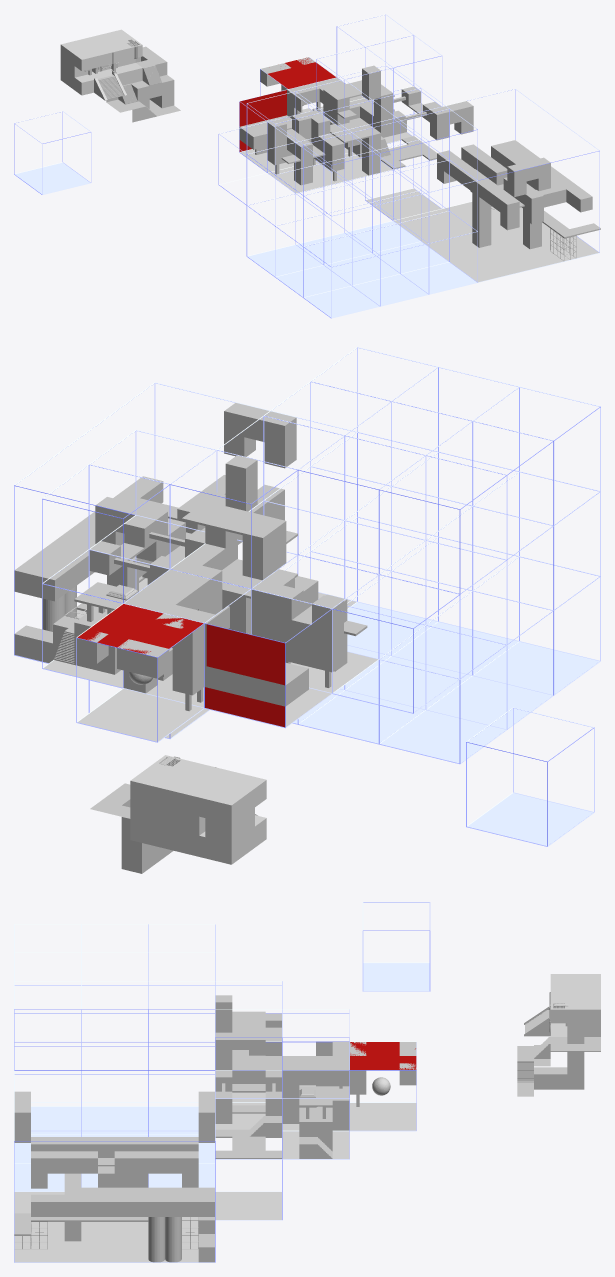
Rendered from Blamelike_Architecture.fbx.
The picture shows the model from 3 angles, top to bottom: view 1: azimuth 30°, elevation 25°; view 2: azimuth 150°, elevation 25°; view 3: azimuth 270°, elevation 25°; orthographic projection. The views are drawn at different scales.
Parts seen in each view (by area): view 1: Plane.064, Cube.002, Cube.253, Plane.060, Plane.061, Plane.057, Plane.058, Plane.055, Plane.059, Plane.053, Plane.054, Plane.056 (+16 smaller); view 2: Cube.002, Plane.046, Plane.060, Plane.061, Plane.057, Plane.052, Plane.054, Plane.055, Plane.058, Plane.049, Plane.062, Cube (+49 smaller); view 3: Plane.064, Cube.254, Cube.253, Plane.057, Plane.061, Plane.063, Plane.049, Plane.062, Cube.002, Plane.054, Plane.060, Cube.016 (+9 smaller).
Boxes of the visible parts, x1=… form: Plane.064: x1=394, y1=202, x2=598, y2=282; Cube.002: x1=60, y1=32, x2=130, y2=71; Cube.253: x1=444, y1=155, x2=519, y2=217; Plane.060: x1=304, y1=286, x2=379, y2=317; Plane.061: x1=15, y1=162, x2=90, y2=194; Plane.057: x1=276, y1=265, x2=351, y2=297; Plane.058: x1=353, y1=274, x2=427, y2=305; Plane.055: x1=325, y1=253, x2=399, y2=285; Plane.059: x1=402, y1=262, x2=476, y2=293; Plane.053: x1=345, y1=221, x2=420, y2=252; Plane.054: x1=248, y1=245, x2=322, y2=276; Plane.056: x1=373, y1=241, x2=448, y2=273; Cube.002: x1=150, y1=760, x2=266, y2=824; Plane.046: x1=205, y1=624, x2=284, y2=727; Plane.060: x1=474, y1=642, x2=599, y2=694; Plane.061: x1=468, y1=793, x2=593, y2=845; Plane.057: x1=427, y1=676, x2=552, y2=728; Plane.052: x1=299, y1=690, x2=424, y2=743; Plane.054: x1=380, y1=710, x2=505, y2=763; Plane.055: x1=346, y1=656, x2=471, y2=709; Plane.058: x1=393, y1=622, x2=518, y2=674; Plane.049: x1=77, y1=688, x2=203, y2=741; Plane.062: x1=77, y1=604, x2=203, y2=654; Cube: x1=130, y1=815, x2=266, y2=864; Plane.064: x1=14, y1=1192, x2=198, y2=1262; Cube.254: x1=31, y1=1151, x2=181, y2=1173; Cube.253: x1=31, y1=1137, x2=181, y2=1157; Plane.057: x1=81, y1=1107, x2=147, y2=1134; Plane.061: x1=363, y1=963, x2=429, y2=990; Plane.063: x1=215, y1=1192, x2=281, y2=1219; Plane.049: x1=350, y1=1103, x2=416, y2=1130; Plane.062: x1=350, y1=1042, x2=416, y2=1069; Cube.002: x1=550, y1=974, x2=600, y2=1002; Plane.054: x1=148, y1=1107, x2=198, y2=1134; Plane.060: x1=31, y1=1107, x2=80, y2=1134; Cube.016: x1=550, y1=1002, x2=600, y2=1023.
Size of the model in its own units: 33812 by 12026 by 35015.
